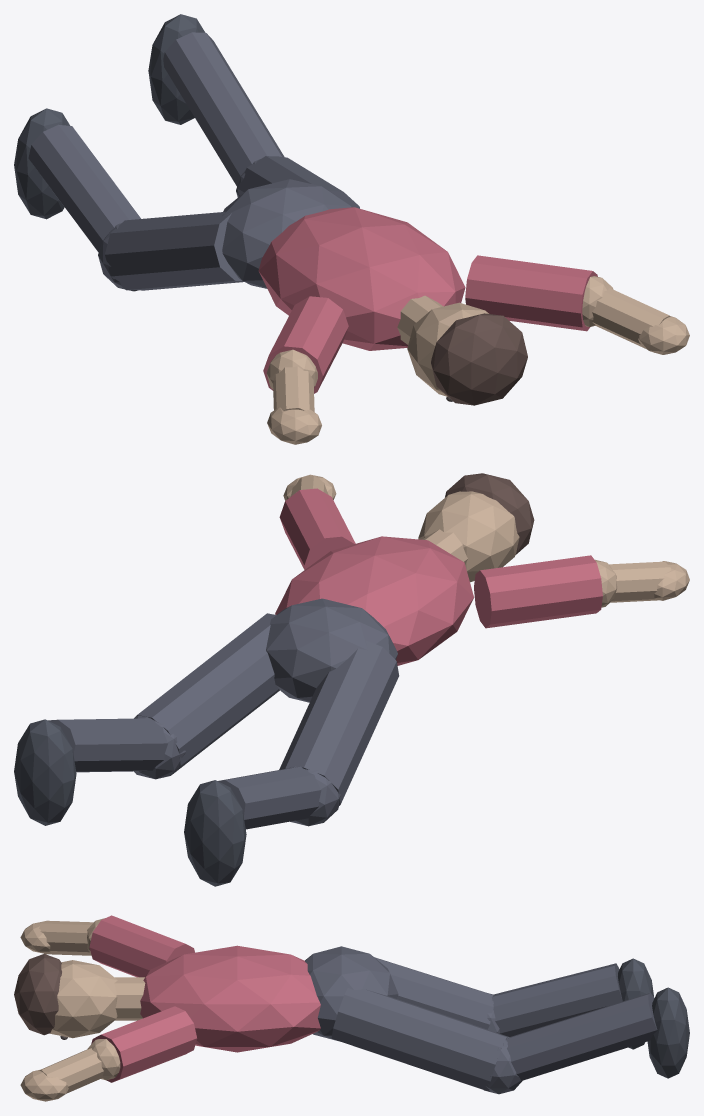
3 renders of one model, top to bottom at view 1: azimuth 30°, elevation 25°; view 2: azimuth 150°, elevation 25°; view 3: azimuth 270°, elevation 25°, orthographic. The views are drawn at different scales.
Visible parts, largest first — view 1: world; view 2: world; view 3: world.
Boxes of the visible parts, left/top/right/bottom form: world: left=14, top=14, right=689, bottom=444; world: left=14, top=473, right=689, bottom=886; world: left=14, top=915, right=689, bottom=1101.
Size of the model in its own units: 1.17 by 0.4125 by 2.01.
